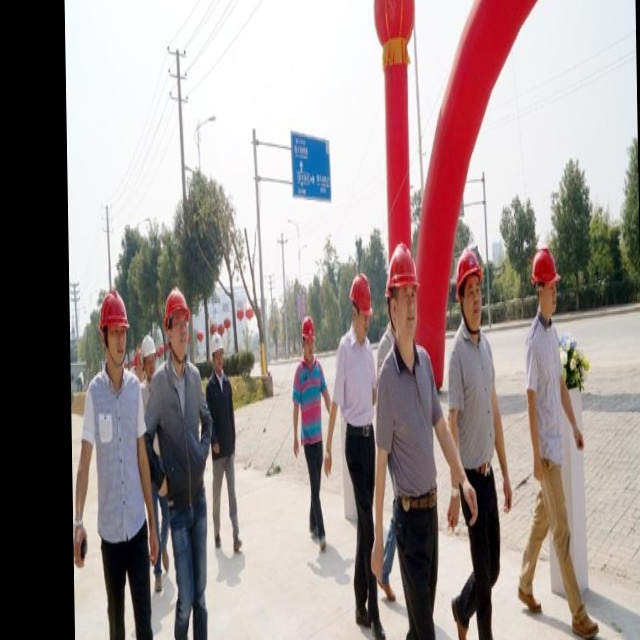Con_Casco: (388, 240, 418, 344), (100, 289, 130, 366), (163, 284, 190, 358), (531, 248, 561, 314), (348, 271, 373, 328)
